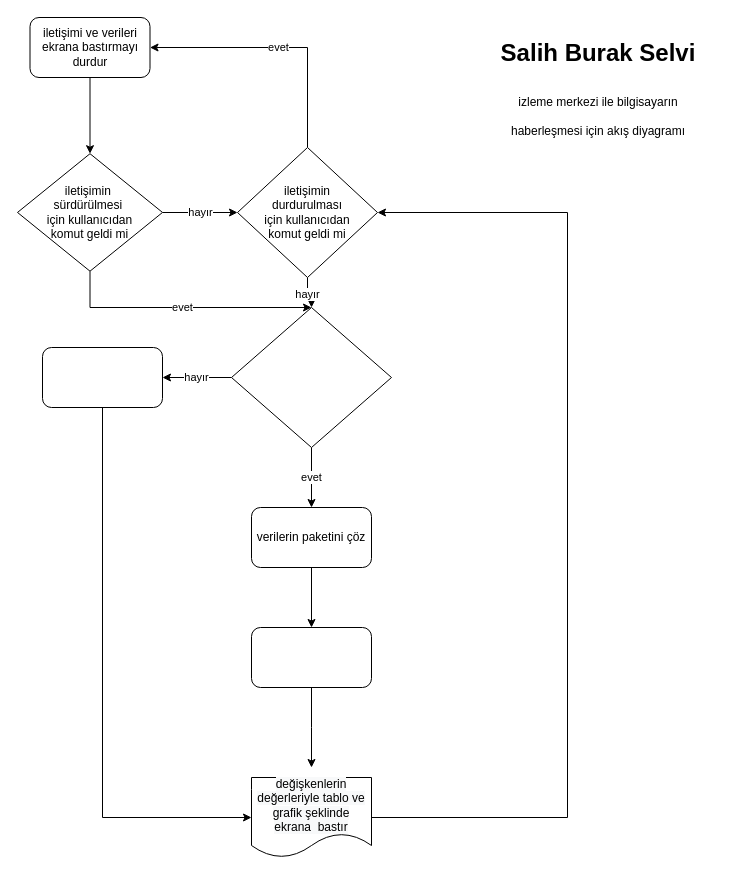
The diagram is 735 pixels wide and 880 high, and some of its shapes have lost their labels. Each missing label, with the centre of its shape:
değişmesi beklenen değişkenlerin yerine -1 yaz: pixel 102 377
izleme merkezinden gelen verileri okuyabildin mi: pixel 311 377
uygun değişkenlere çözülen paketteki verileri yaz: pixel 311 657
